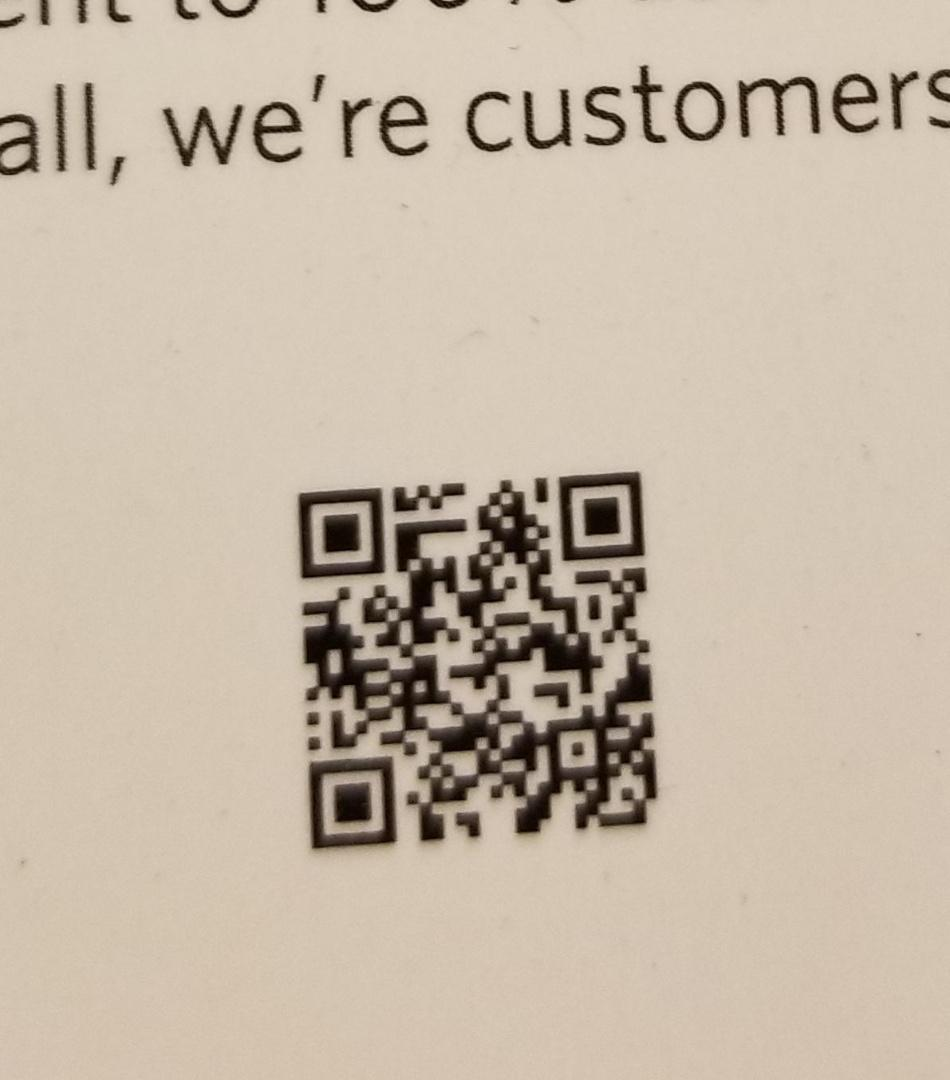Finder pattern: (288, 479, 392, 583), (304, 751, 401, 851), (555, 464, 651, 565)
